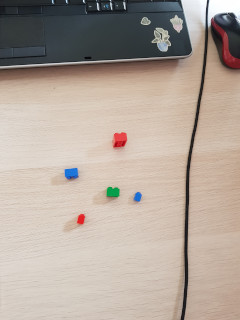1x1 blue: (132, 192, 143, 205)
1x2 red: (77, 214, 85, 225)
2x2 blue: (63, 167, 80, 181)
2x2 green: (106, 187, 120, 198)
2x4 red: (113, 133, 128, 148)
